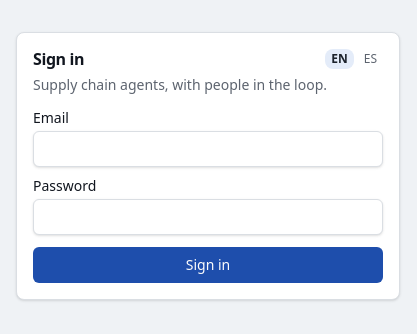
Test: auth guard and login › shows the failure text on a 401
The width and height of the screenshot is (417, 334).
expect the heading "Sign in" is shown: met, box [33,51,84,67]
In the field labelled "Email": (208, 149) [33,131,383,167], type "ana@x.com"
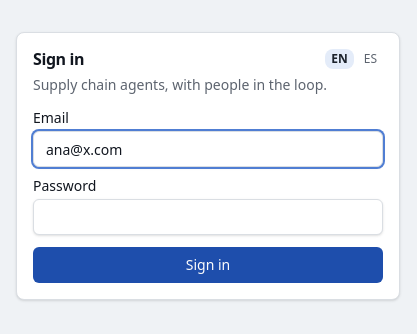
In the password field labelled "Password": (208, 217) [33,199,383,235], type "nope"
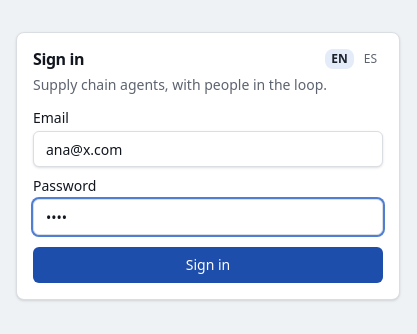
Click the button "Sign in": (208, 265) [33,247,383,283]
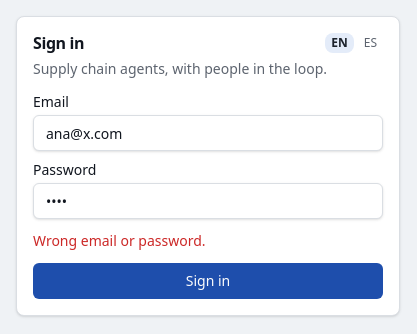
expect the message reads "Wrong email or password.": met, box [33,231,206,250]
